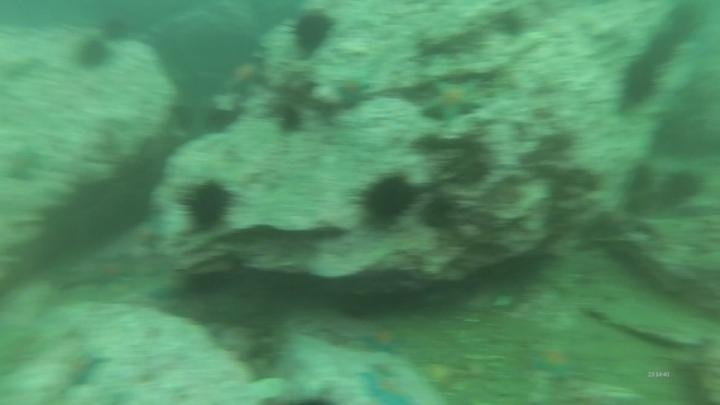echinus: (353, 170, 419, 232), (178, 176, 238, 235), (288, 9, 337, 58), (659, 167, 705, 207), (72, 35, 113, 74), (272, 101, 308, 138), (98, 14, 134, 46)
starfish: (417, 76, 486, 126), (57, 344, 112, 392), (356, 366, 418, 405), (526, 342, 585, 382), (75, 254, 136, 292), (1, 142, 49, 186), (221, 55, 270, 98), (353, 323, 408, 358), (144, 270, 193, 304), (330, 73, 375, 110)
